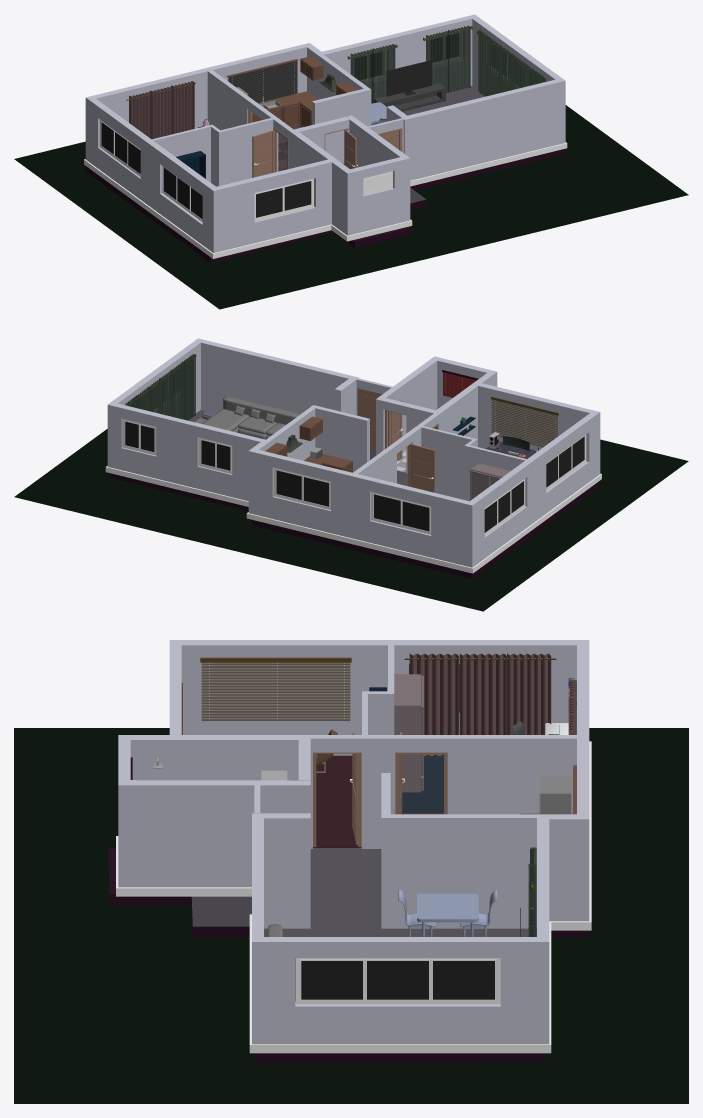
Rendered from monoambiente.fbx.
3 renders of one model, top to bottom at view 1: azimuth 30°, elevation 25°; view 2: azimuth 150°, elevation 25°; view 3: azimuth 270°, elevation 25°, orthographic. The views are drawn at different scales.
Parts seen in each view (by area): view 1: Base_Walls_4, Base_Outside_5, Baseboard_0, LR_Curtain3_113, LR_Curtain2_112, KC_Blind_45, OF_Window2_84, LR_Curtain1_111, LR_Floor_105, LR_TV_99, KC_CabinetLow_38, BR_Window1_36 (+13 smaller); view 2: Base_Walls_4, Base_Outside_5, Baseboard_0, LR_Curtain3_113, OF_Blind_63, LR_Couch_97, BR_Window2_37, KC_Window_54, BR_Door_18, BR_Window1_36, BR_Floor_27, OF_Window1_83 (+10 smaller); view 3: Base_Outside_5, Base_Walls_4, LR_Window_114, OF_Blind2_65, Baseboard_0, Base_CorridorFloor_2, LR_Floor_105, BR_Curtain5_32, BR_Curtain6_33, OF_Floor_82, BR_Curtain4_31, BR_Closet_6 (+8 smaller).
Boxes of the visible parts, x1,y1,x2,y2 form: Base_Walls_4: [85, 14, 565, 253]; Base_Outside_5: [14, 105, 688, 309]; Baseboard_0: [84, 142, 567, 258]; LR_Curtain3_113: [478, 30, 545, 96]; LR_Curtain2_112: [426, 25, 470, 93]; KC_Blind_45: [228, 61, 297, 102]; OF_Window2_84: [254, 178, 313, 220]; LR_Curtain1_111: [350, 44, 395, 103]; LR_Floor_105: [371, 86, 564, 190]; LR_TV_99: [386, 60, 432, 96]; KC_CabinetLow_38: [252, 91, 318, 127]; BR_Window1_36: [100, 120, 140, 176]; Base_Walls_4: [107, 338, 600, 567]; Base_Outside_5: [14, 429, 688, 611]; Baseboard_0: [105, 466, 601, 573]; LR_Curtain3_113: [125, 354, 195, 420]; OF_Blind_63: [491, 399, 557, 447]; LR_Couch_97: [202, 396, 300, 439]; BR_Window2_37: [371, 492, 431, 534]; KC_Window_54: [273, 467, 330, 509]; BR_Door_18: [398, 443, 435, 492]; BR_Window1_36: [484, 479, 525, 535]; BR_Floor_27: [349, 530, 532, 579]; OF_Window1_83: [546, 435, 586, 490]; Base_Outside_5: [14, 728, 688, 1103]; Base_Walls_4: [118, 640, 589, 1044]; LR_Window_114: [295, 958, 500, 1004]; OF_Blind2_65: [201, 662, 350, 720]; Baseboard_0: [116, 741, 591, 1053]; Base_CorridorFloor_2: [310, 848, 381, 925]; LR_Floor_105: [254, 925, 544, 1062]; BR_Curtain5_32: [459, 653, 506, 734]; BR_Curtain6_33: [507, 653, 551, 734]; OF_Floor_82: [313, 755, 361, 847]; BR_Curtain4_31: [409, 653, 458, 756]; BR_Closet_6: [394, 674, 423, 792].
Size of the model in its own units: 1753 by 264 by 1330.
